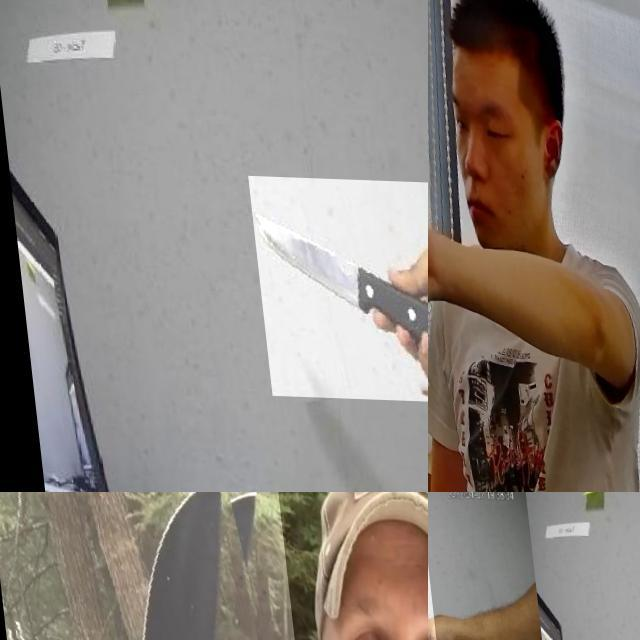-: (0, 492, 326, 640), (242, 174, 428, 400), (428, 530, 478, 640)
gun-knife-thesis - v11 Yolov5 augmented: (428, 178, 522, 399)
